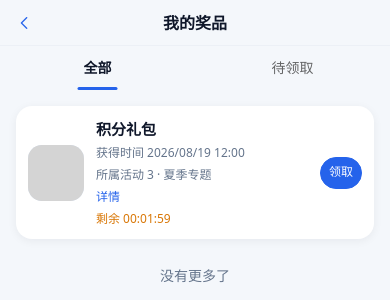
MinePrizesPage › does not toast, reload, or replace current prize rows for an old-session claim
This screenshot has width=390, height=300.
Click the button with test id "prize-action-11" at (341, 172), box x1=320 y1=156 x2=362 y2=188
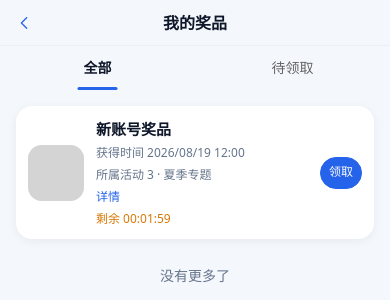
expect the element with test id "prize-card" shows "新账号奖品": met, box x1=28 y1=118 x2=312 y2=227
